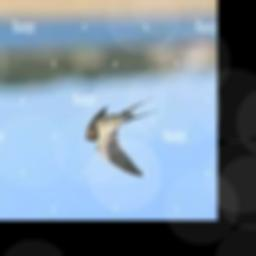Swallow: (86, 99, 157, 178)
